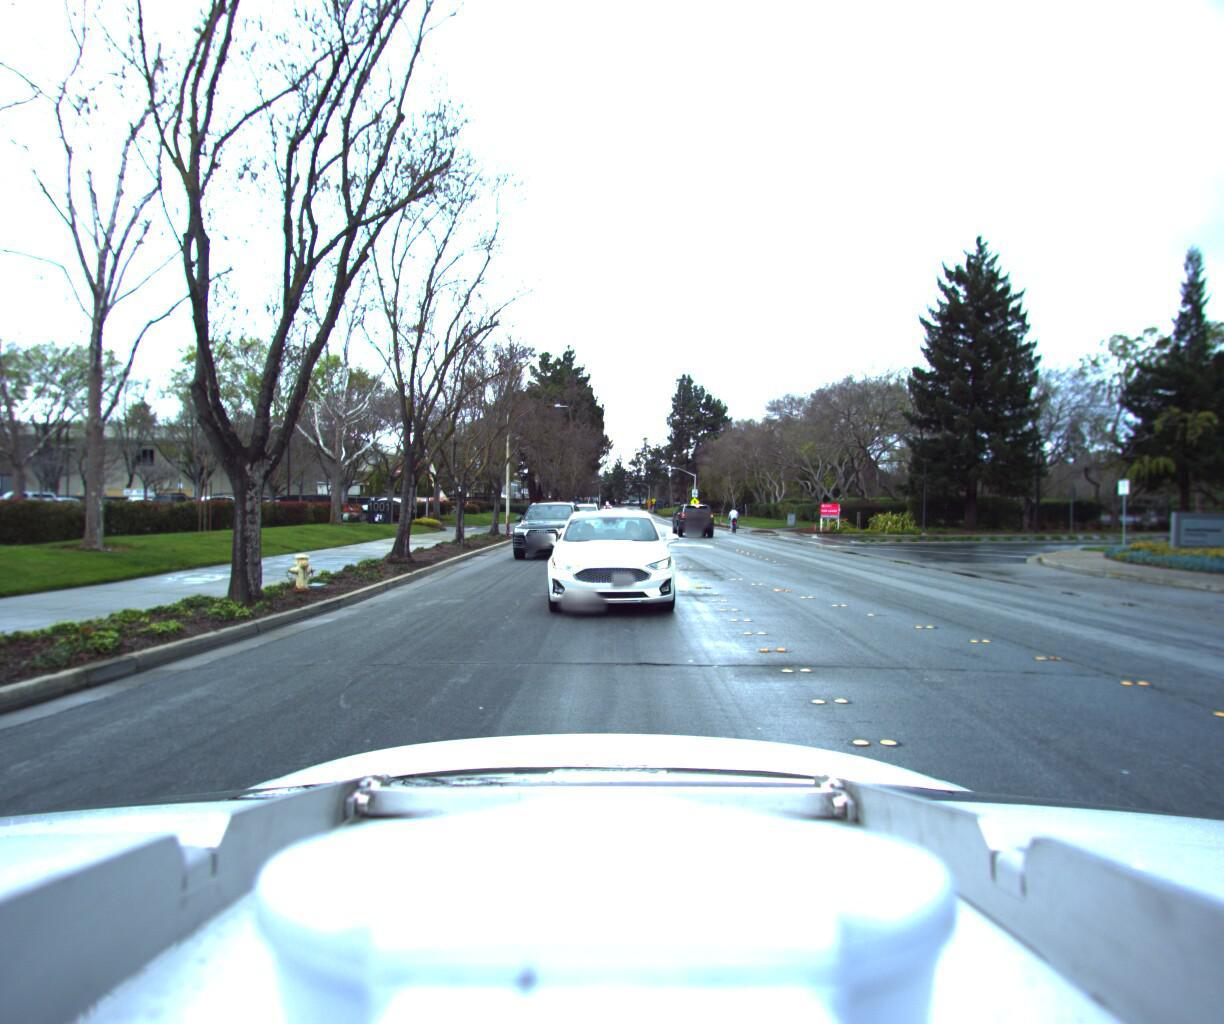bicycle: (725, 513, 741, 538)
car: (541, 503, 680, 623), (508, 502, 588, 562), (559, 506, 611, 549), (673, 506, 716, 542)
